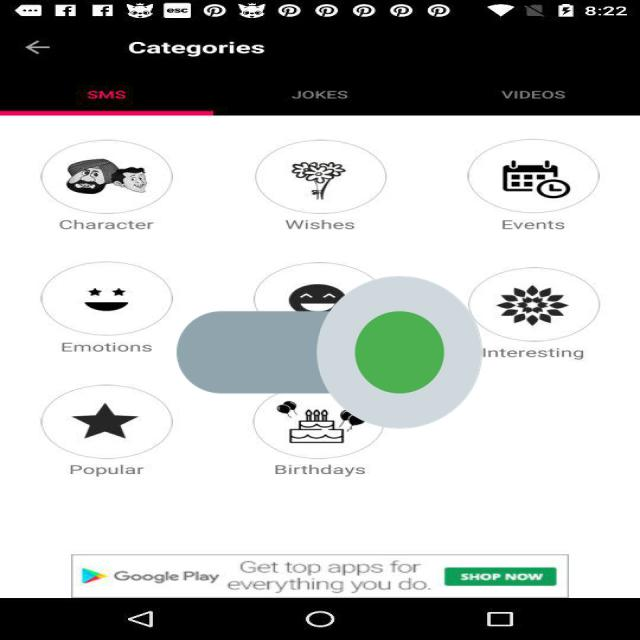social proof: (177, 212, 482, 494)
